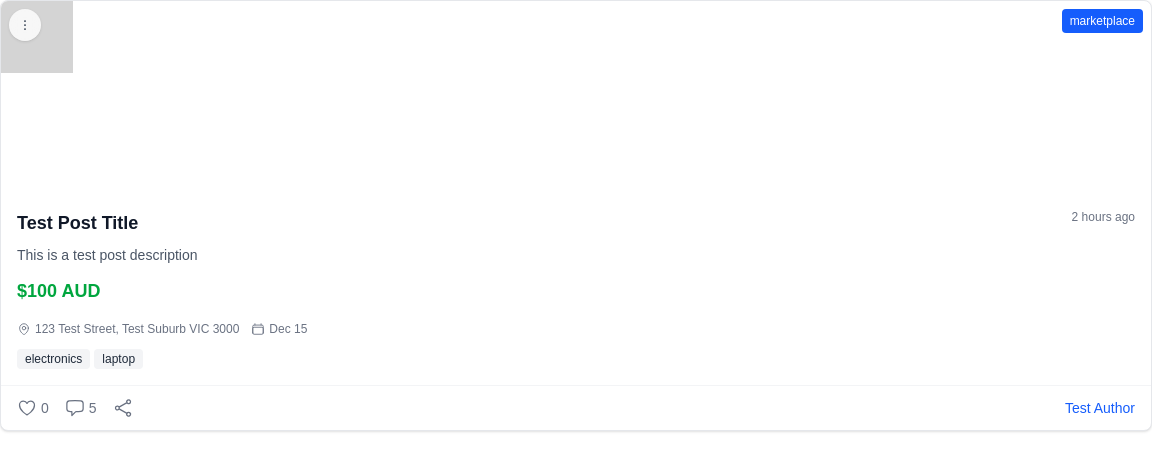
Test: PostCard Component › closes options menu when clicking outside
Click the button named "post options" at [25, 25], box [9,9,41,41]
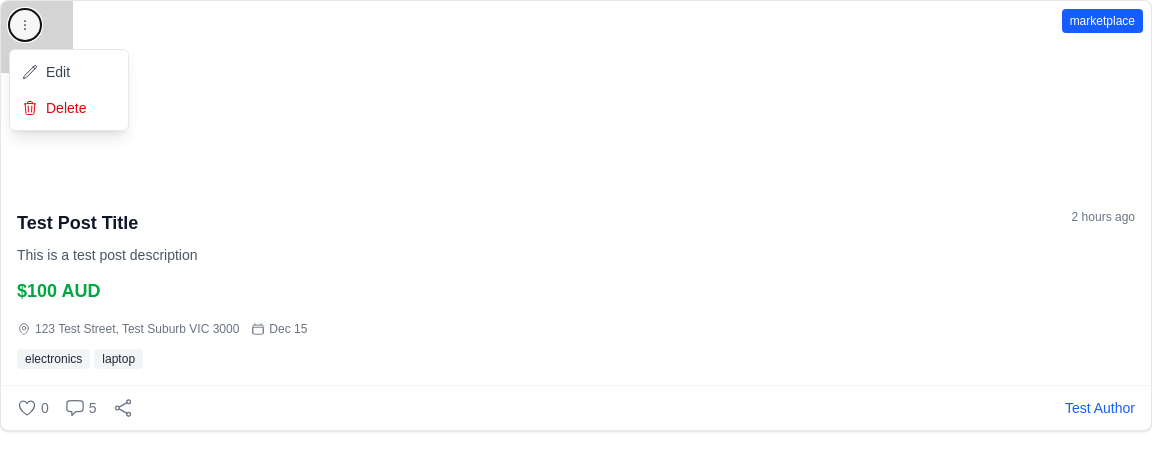
Expected: the button "Edit" is shown, [10,54,128,90]
Click outside
Press the mouse on the element that starts with "marketplace" at [576, 216], box [0,0,1151,431]
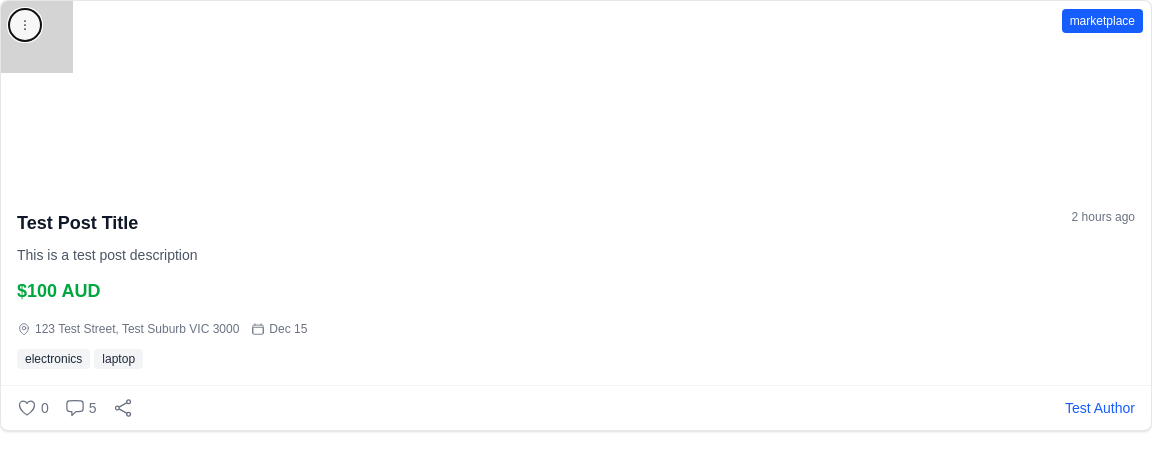
Expected: the button "Edit" is gone
